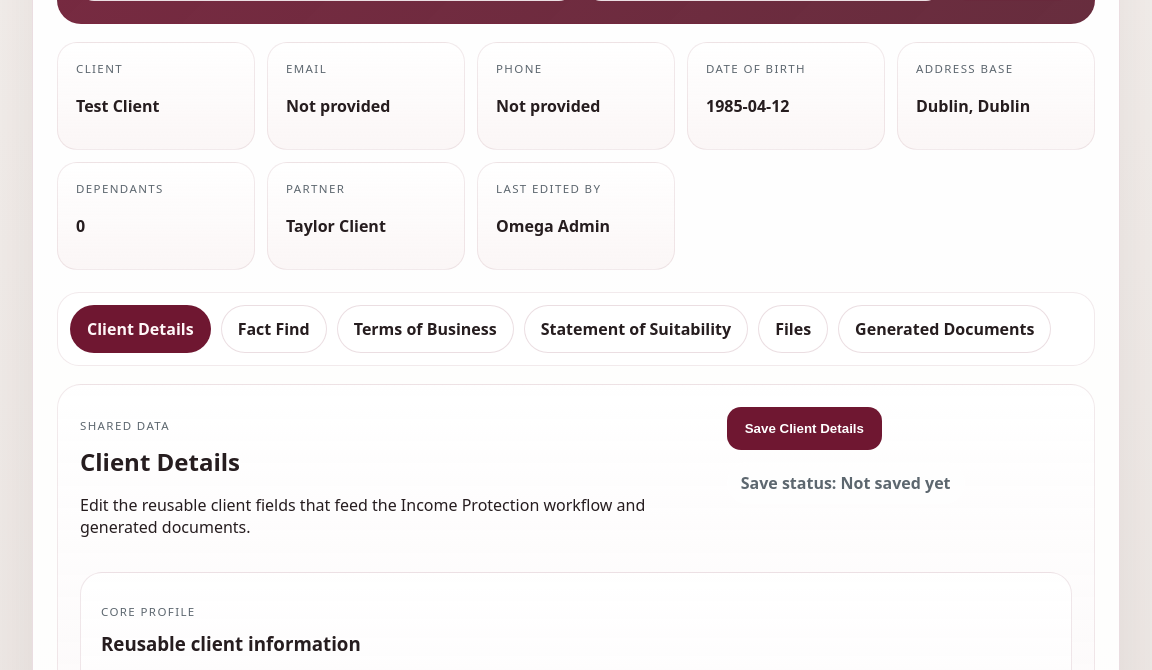
Test: App routes › blocks Statement of Suitability final generation when essential fields are missing
(page scrolled)
Click the tab "Statement of Suitability" at (636, 329), box [524, 305, 748, 353]
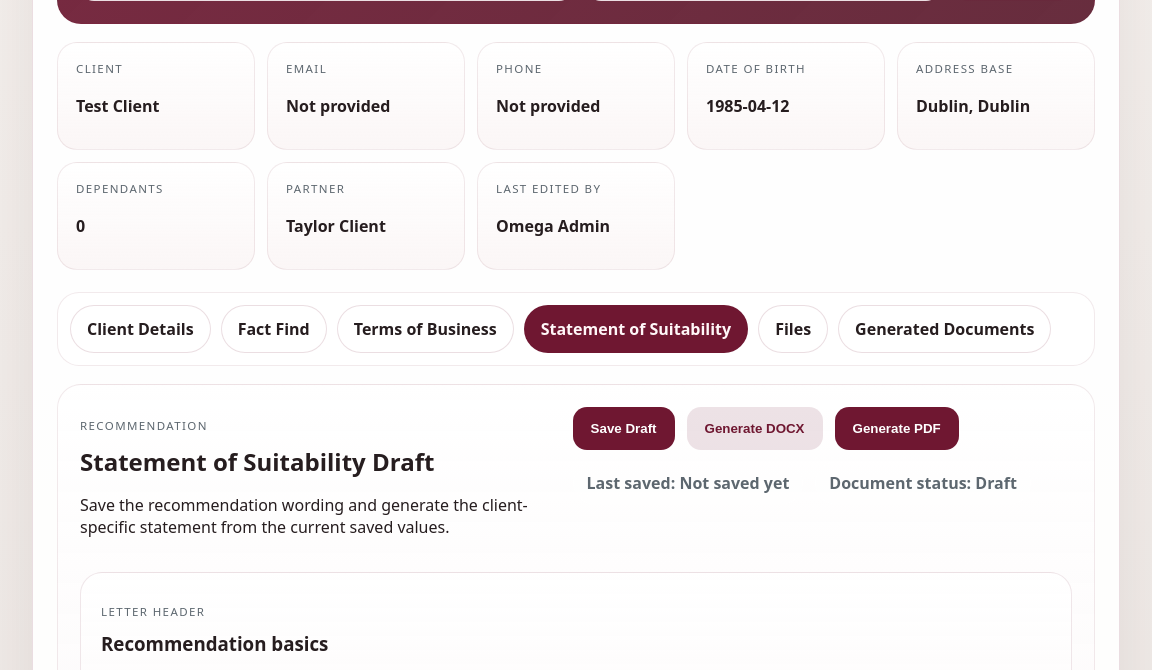
Click the button "Generate PDF" at (897, 428), box [834, 407, 959, 450]
(page scrolled)
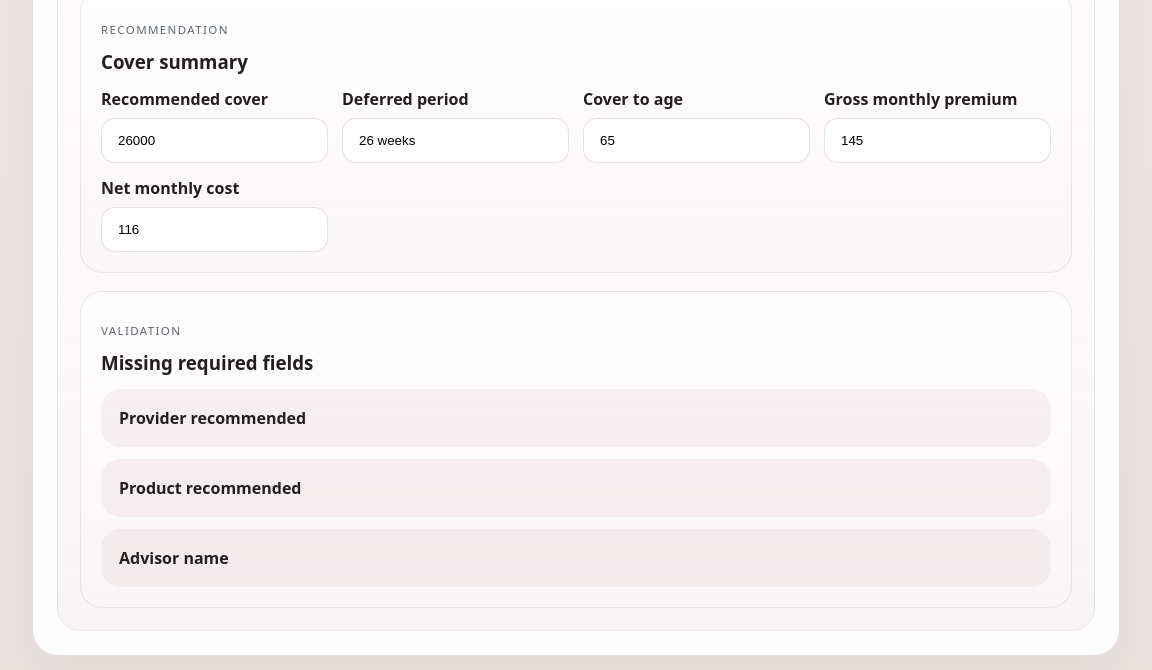
Now the heading "Missing required fields" is shown, box [101, 350, 313, 375]
Now the text "Provider recommended" is shown, box [119, 407, 306, 429]
Now the text "Product recommended" is shown, box [119, 477, 302, 499]
